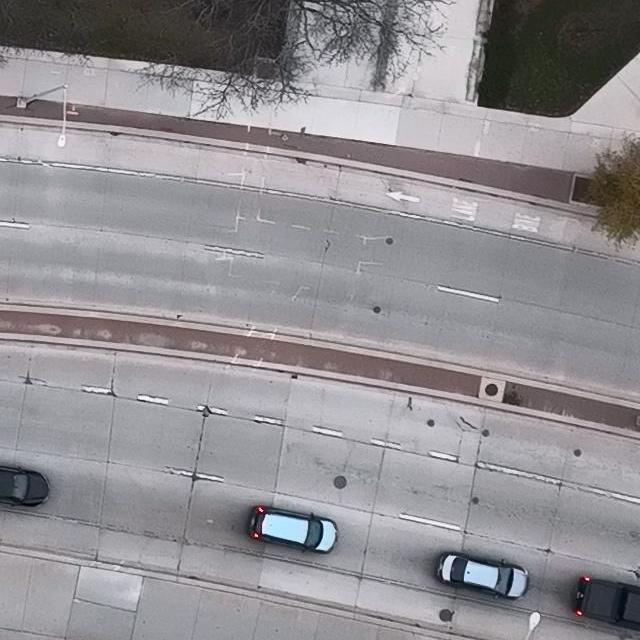car: (436, 550, 529, 599), (247, 506, 340, 554), (573, 574, 640, 629), (0, 466, 48, 508)
